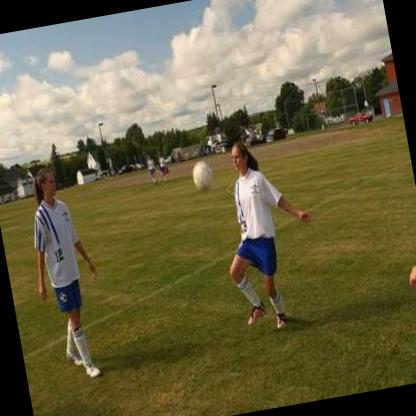ball: (190, 160, 216, 193)
